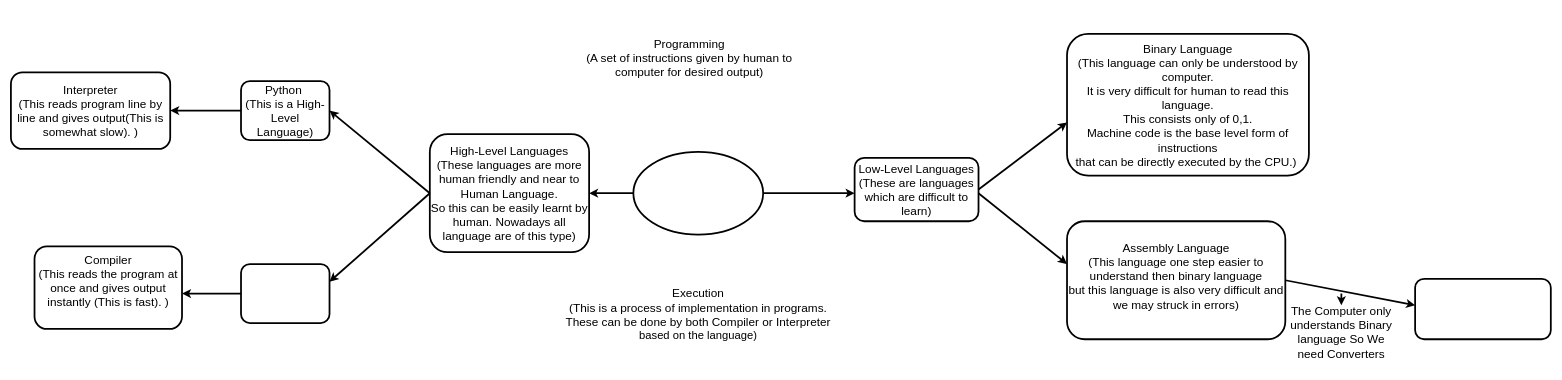
Image size: 1562x380. Some labels were removed from this diagram. Each missing label, with the centre of its shape:
"Assembler (Converter for Assembly Language)" goes at pixel 1482 309.
"Java (This is a High -Level Language)" goes at pixel 285 293.
"Types of Programming Languages" goes at pixel 698 193.
